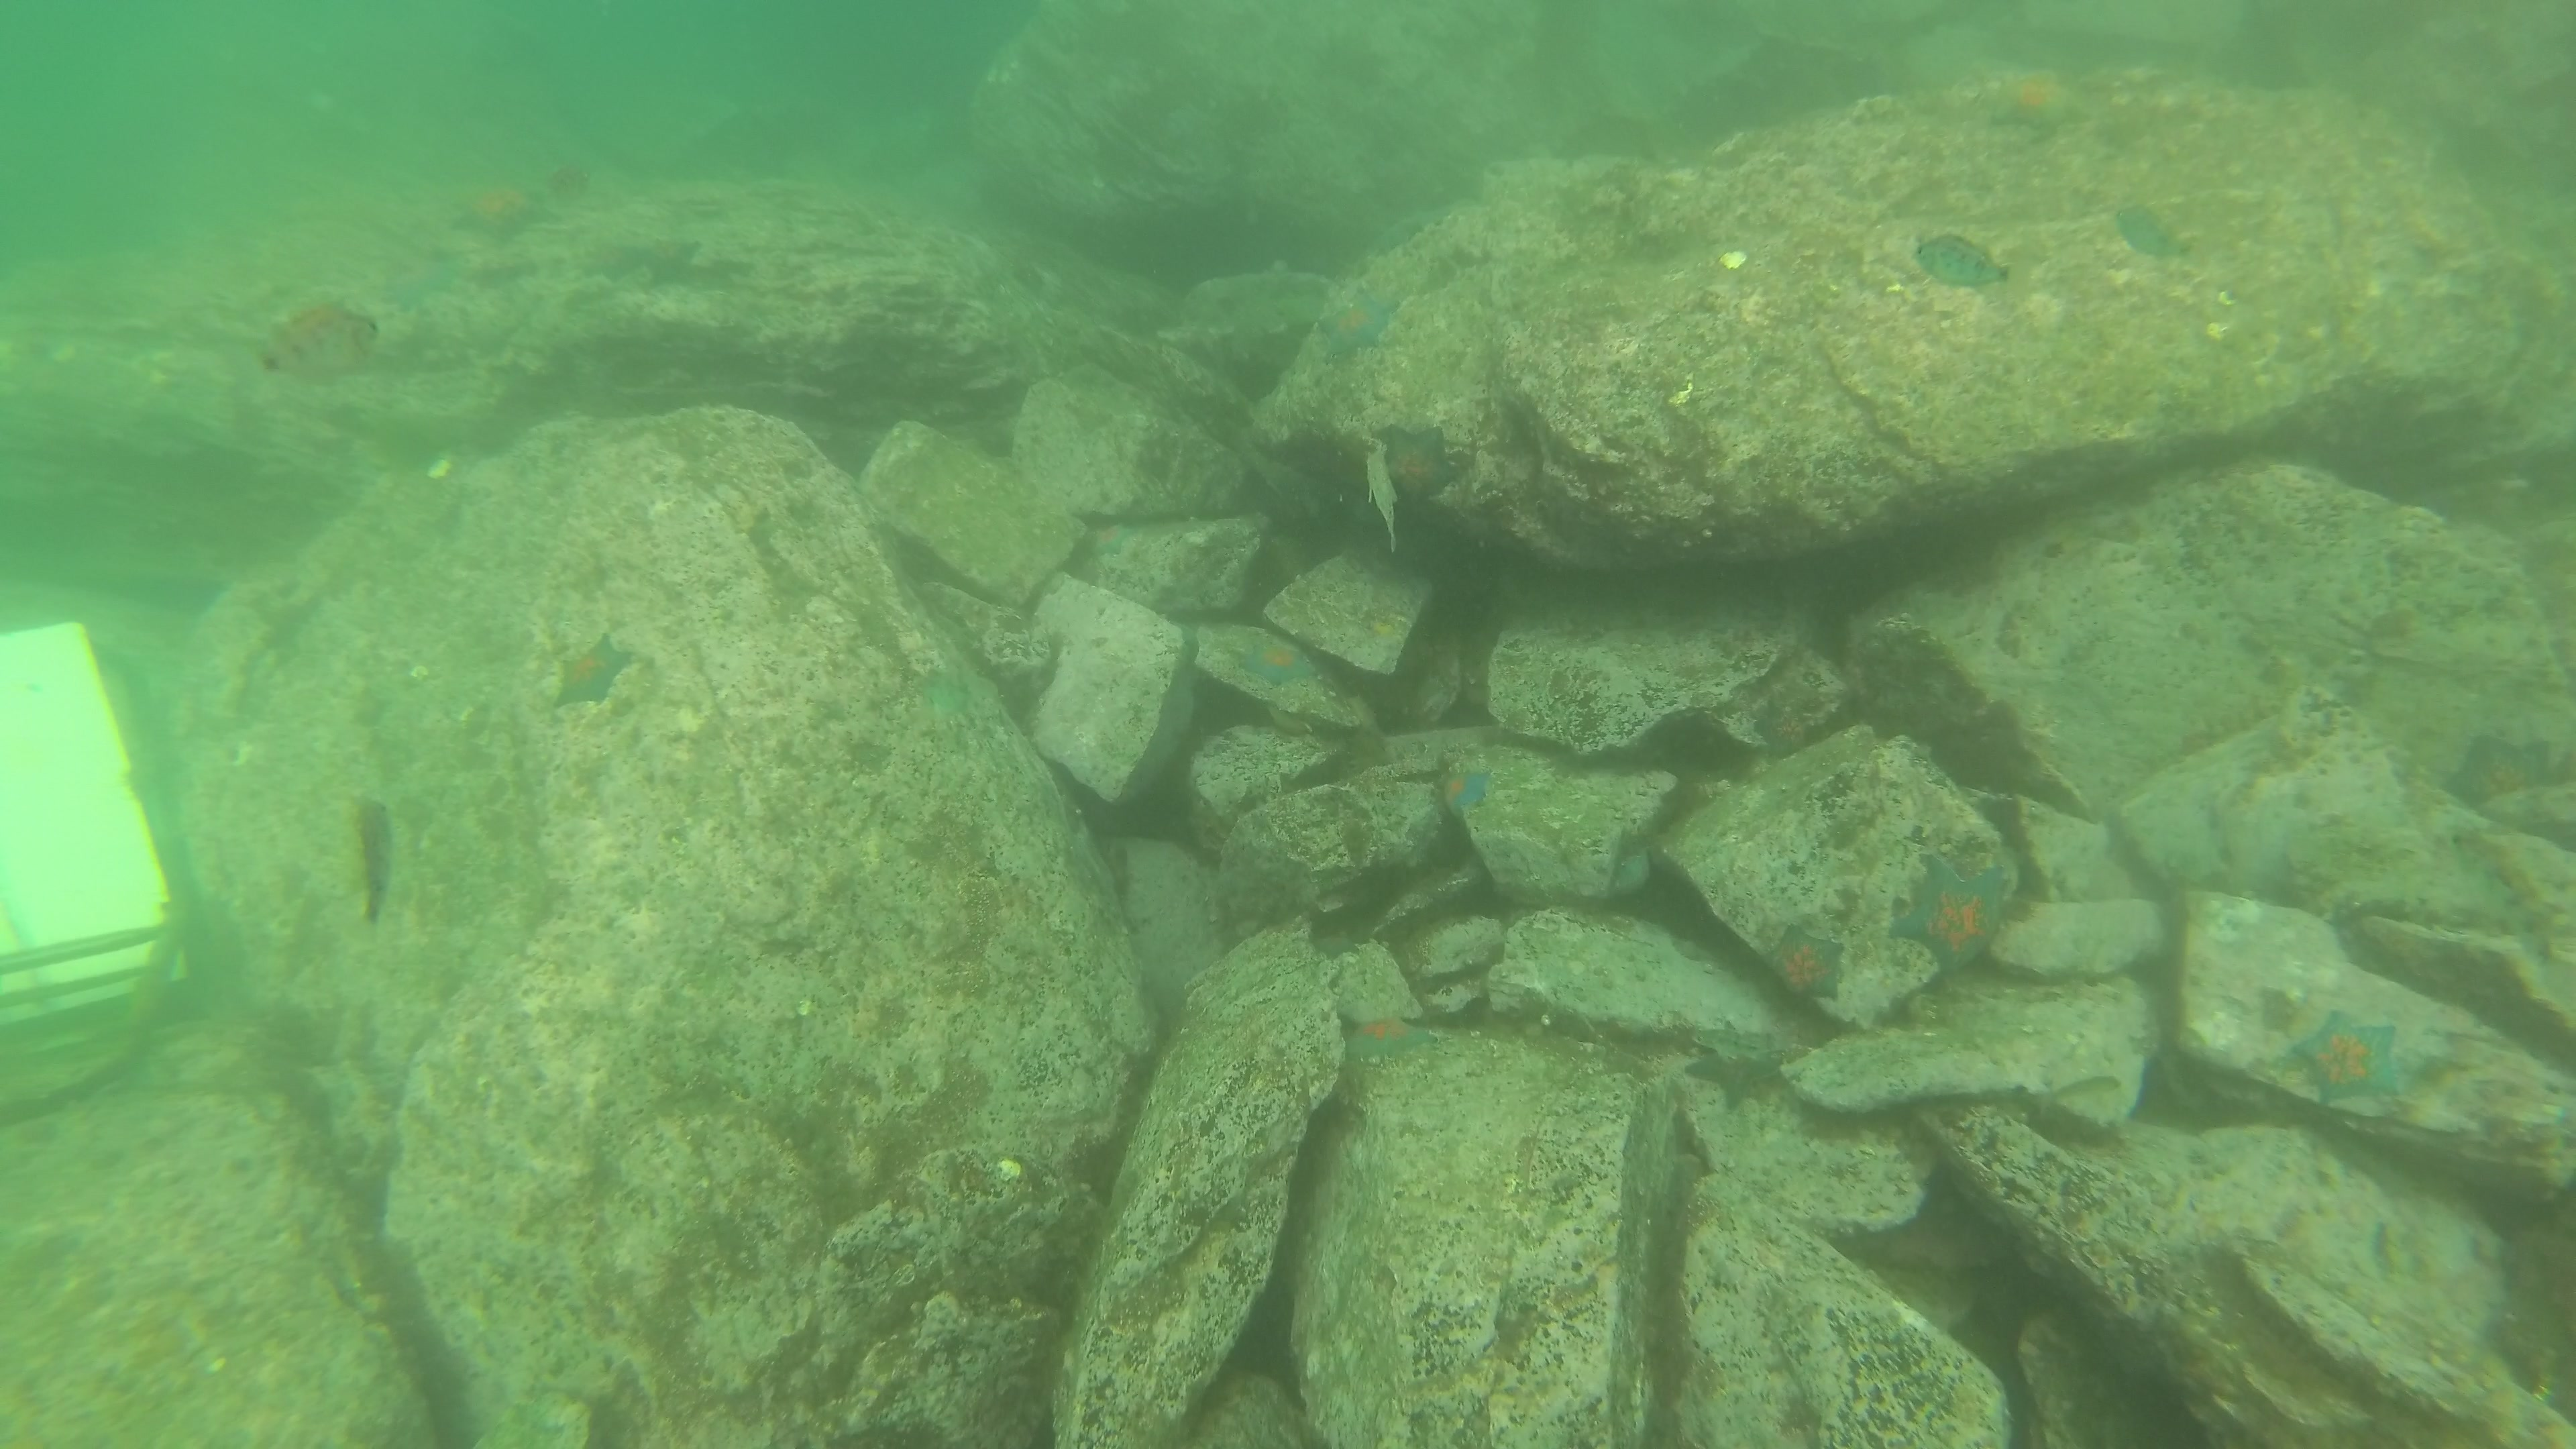starfish: (1888, 858, 2013, 977), (2289, 1008, 2403, 1111), (2440, 734, 2553, 809), (1757, 922, 1849, 1005), (552, 628, 640, 713), (1316, 283, 1403, 364), (1380, 421, 1461, 506), (1989, 69, 2082, 138), (462, 186, 547, 244), (1231, 632, 1322, 686), (1345, 1016, 1440, 1065), (379, 251, 456, 311), (580, 237, 649, 285), (639, 234, 706, 280), (1438, 763, 1495, 816)
